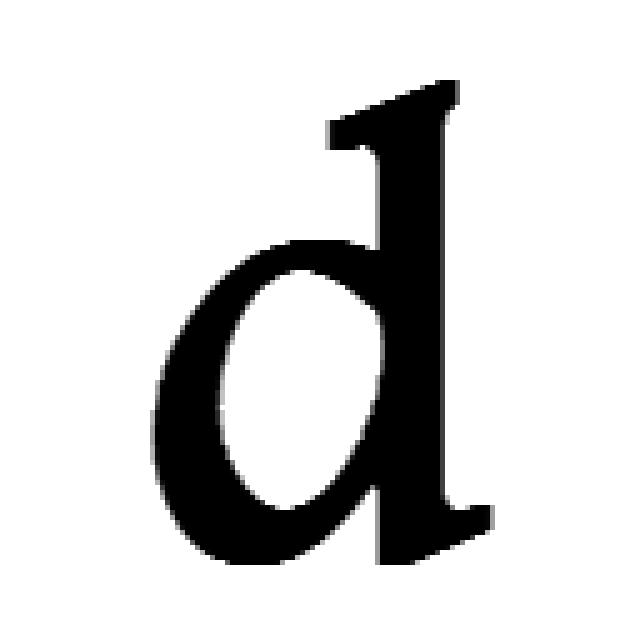D: (145, 70, 495, 570)
